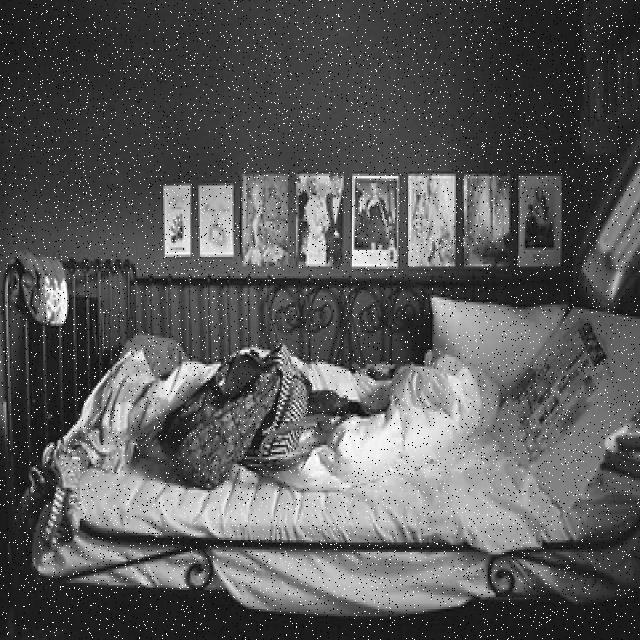bed: (31, 296, 640, 588)
